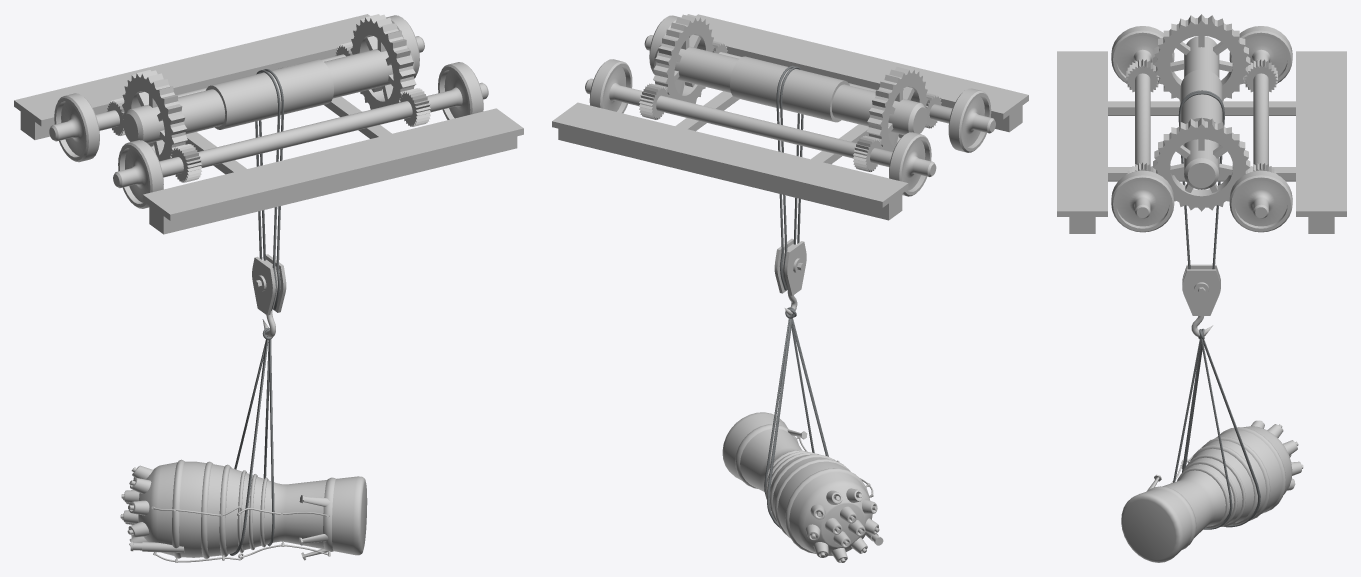
The model's file is SM_Prop_Crane_Rope.fbx.
3 renders of one model, left to right at view 1: azimuth 30°, elevation 25°; view 2: azimuth 150°, elevation 25°; view 3: azimuth 270°, elevation 25°, orthographic. The views are drawn at different scales.
Visible parts, largest first — view 1: SM_Prop_Crane_Rope_LOD0; view 2: SM_Prop_Crane_Rope_LOD0; view 3: SM_Prop_Crane_Rope_LOD0.
Part boxes in pixels (bbox=[...]): SM_Prop_Crane_Rope_LOD0: bbox=[14, 14, 523, 562]; SM_Prop_Crane_Rope_LOD0: bbox=[552, 14, 1028, 562]; SM_Prop_Crane_Rope_LOD0: bbox=[1057, 14, 1346, 562].
Bounding box in the file's own units: 1120 × 821 × 1477.
